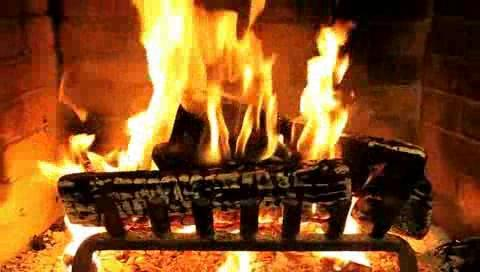fire: (9, 0, 478, 199)
